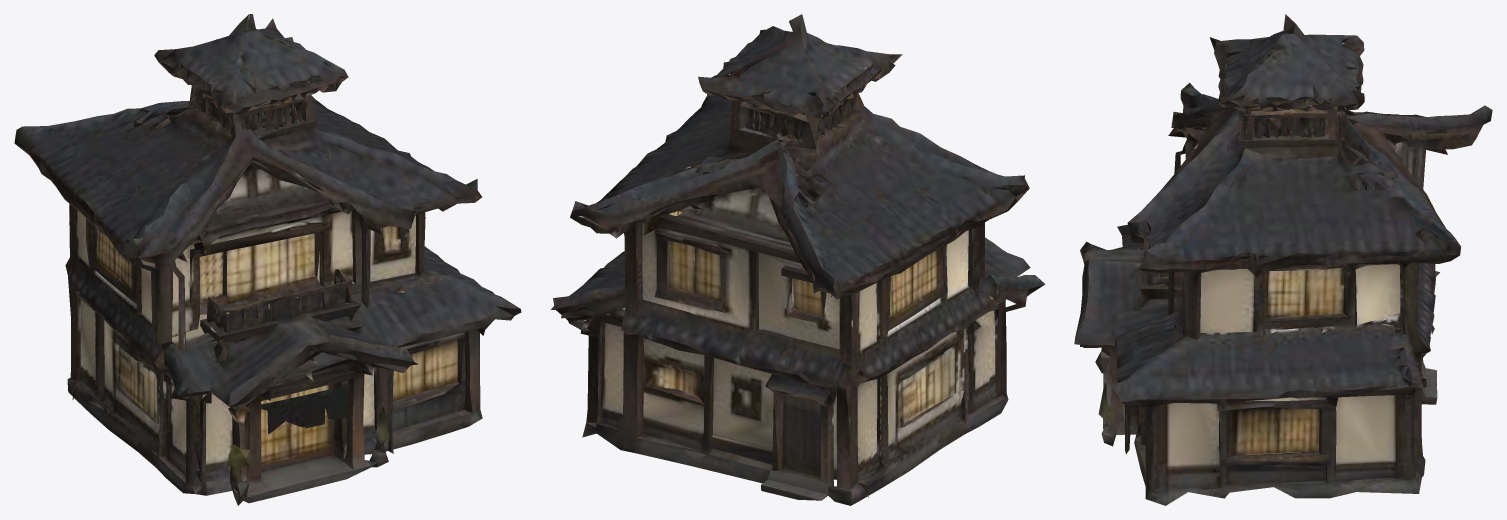
3 views of the same model, side by side, from view 1: azimuth 30°, elevation 25°; view 2: azimuth 150°, elevation 25°; view 3: azimuth 270°, elevation 25° (orthographic). The views are drawn at different scales.
Parts seen in each view (by area): view 1: compact__tower_2__neural_lod; view 2: compact__tower_2__neural_lod; view 3: compact__tower_2__neural_lod.
Boxes of the visible parts, left/top/right/bottom form: compact__tower_2__neural_lod: left=14, top=14, right=521, bottom=505; compact__tower_2__neural_lod: left=551, top=14, right=1045, bottom=505; compact__tower_2__neural_lod: left=1074, top=14, right=1492, bottom=505.
Bounding box in the file's own units: 0.9378 × 0.9953 × 0.918.
1 material, 1 textured.
